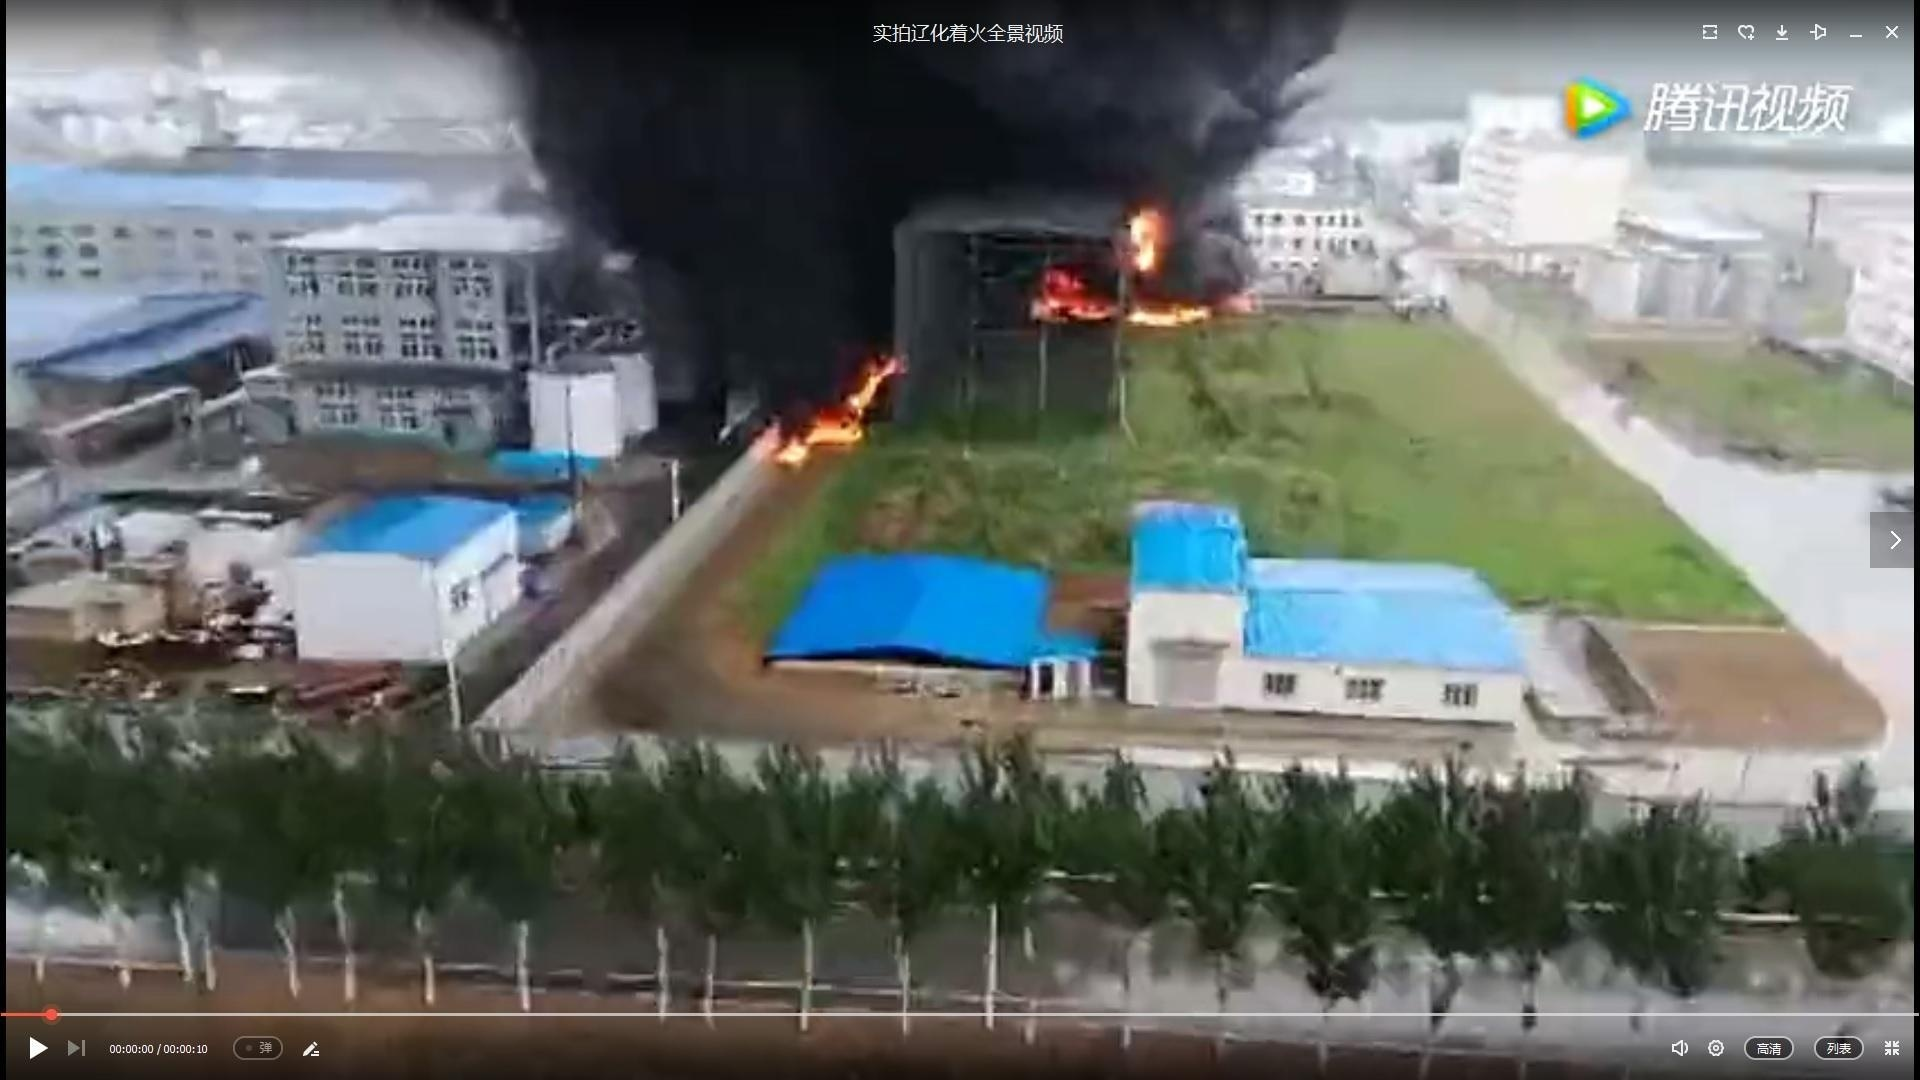fire: (766, 353, 894, 464), (1033, 266, 1102, 323)
